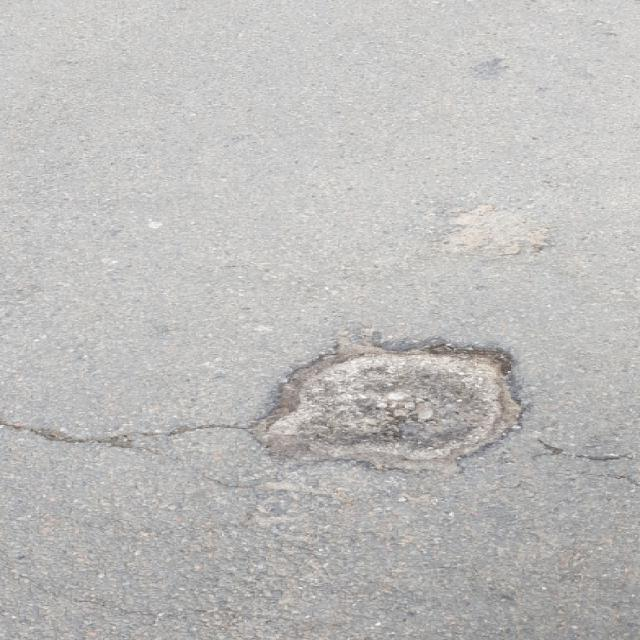Pothole: (237, 334, 543, 469)
